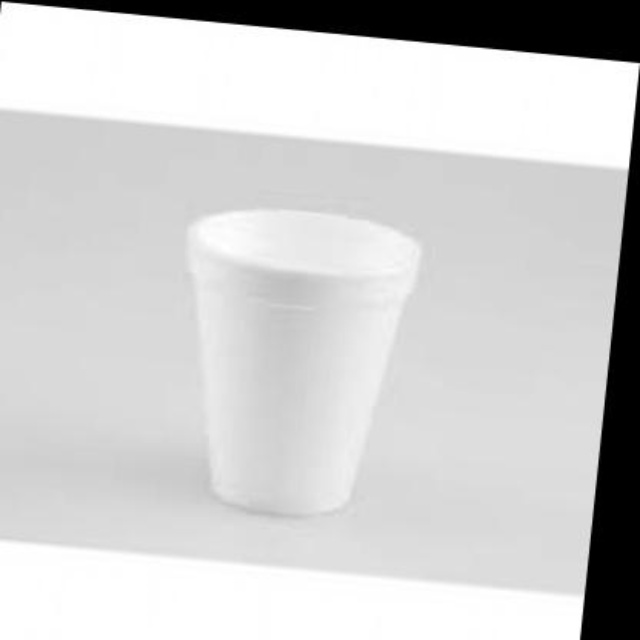trash: (188, 209, 420, 514)
